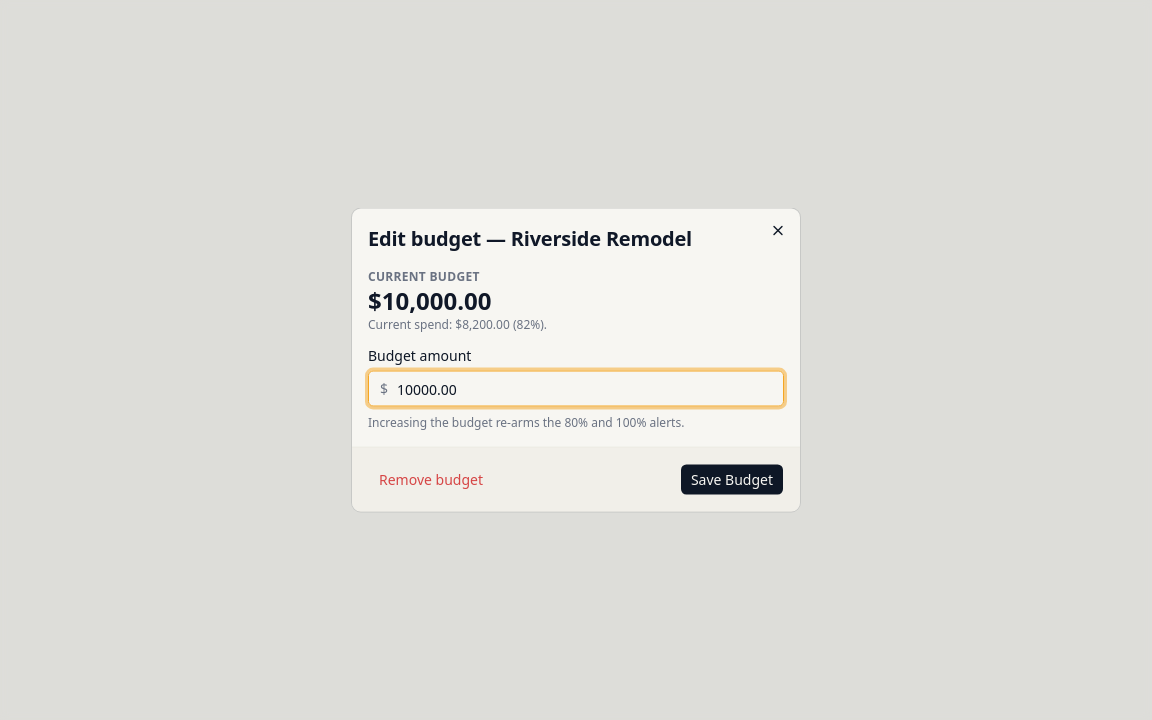
Scenario: SetBudgetDialog › the project-anchored confirmation names the project
The image size is (1152, 720).
Click the button with test id "budget-remove-button": (431, 480) [368,464,494,496]
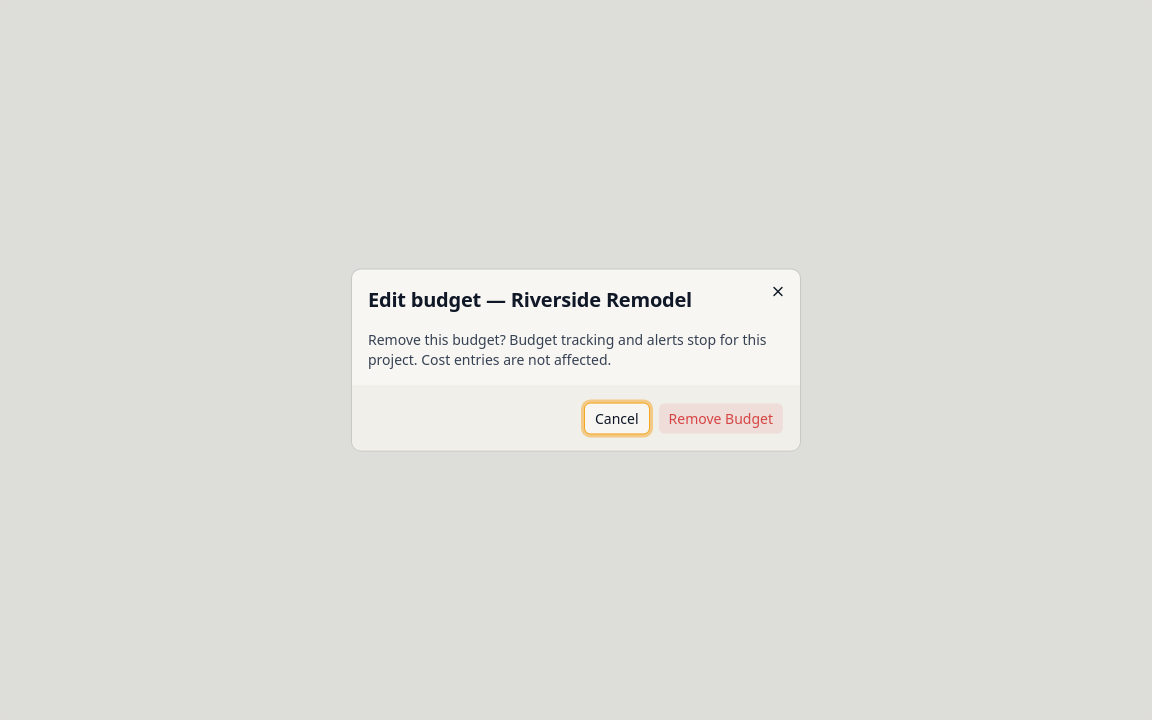
Expected: the text "Remove this budget? Budget tracking and alerts stop for this project. Cost entries are not affected." is shown, [368,330,766,368]
